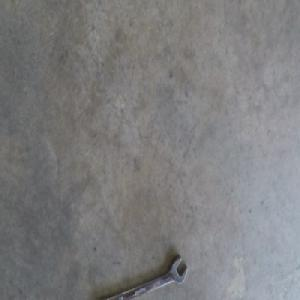Wrench: (109, 253, 186, 299)
